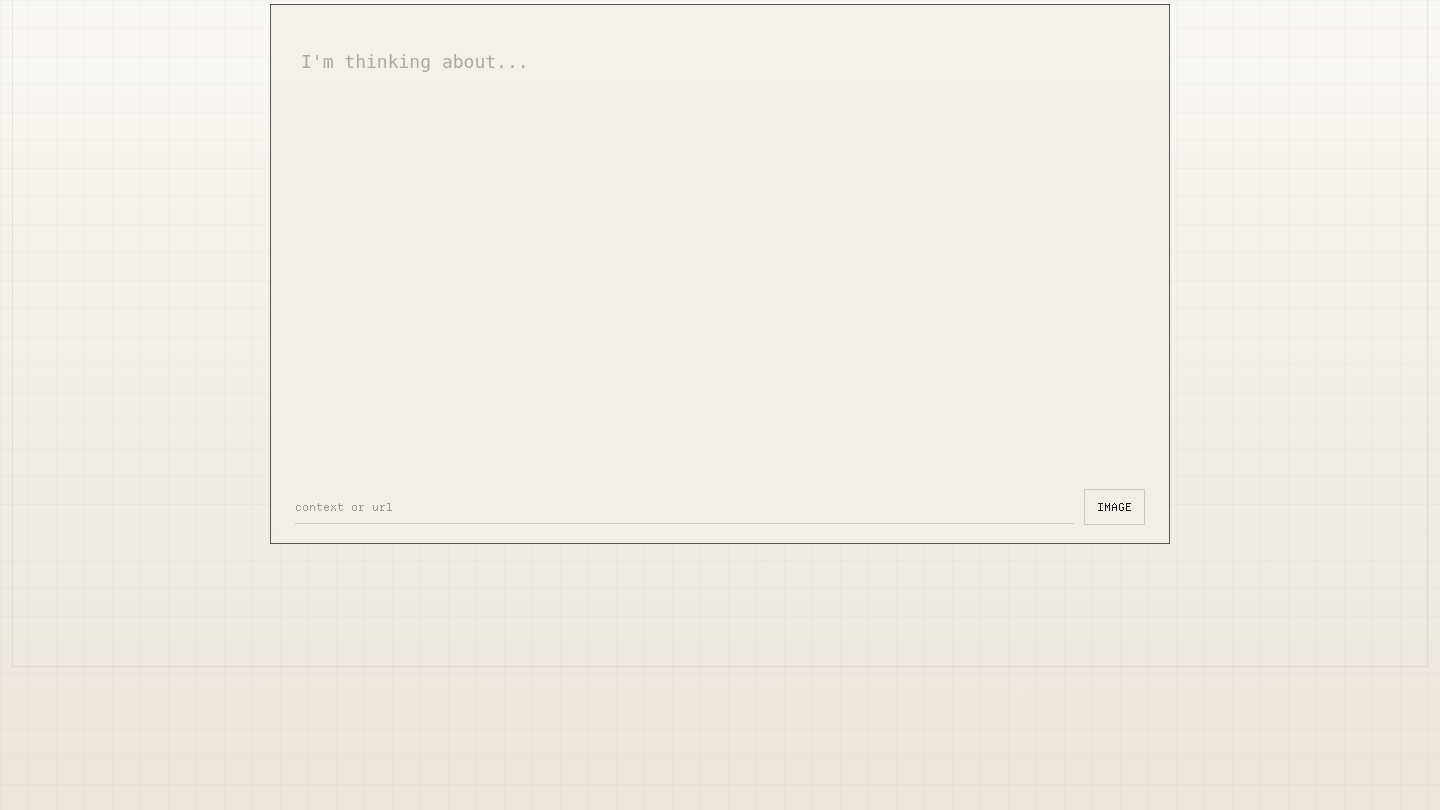
Scenario: opened notes display the fetched title for url contexts
(page scrolled)
Press ArrowDown
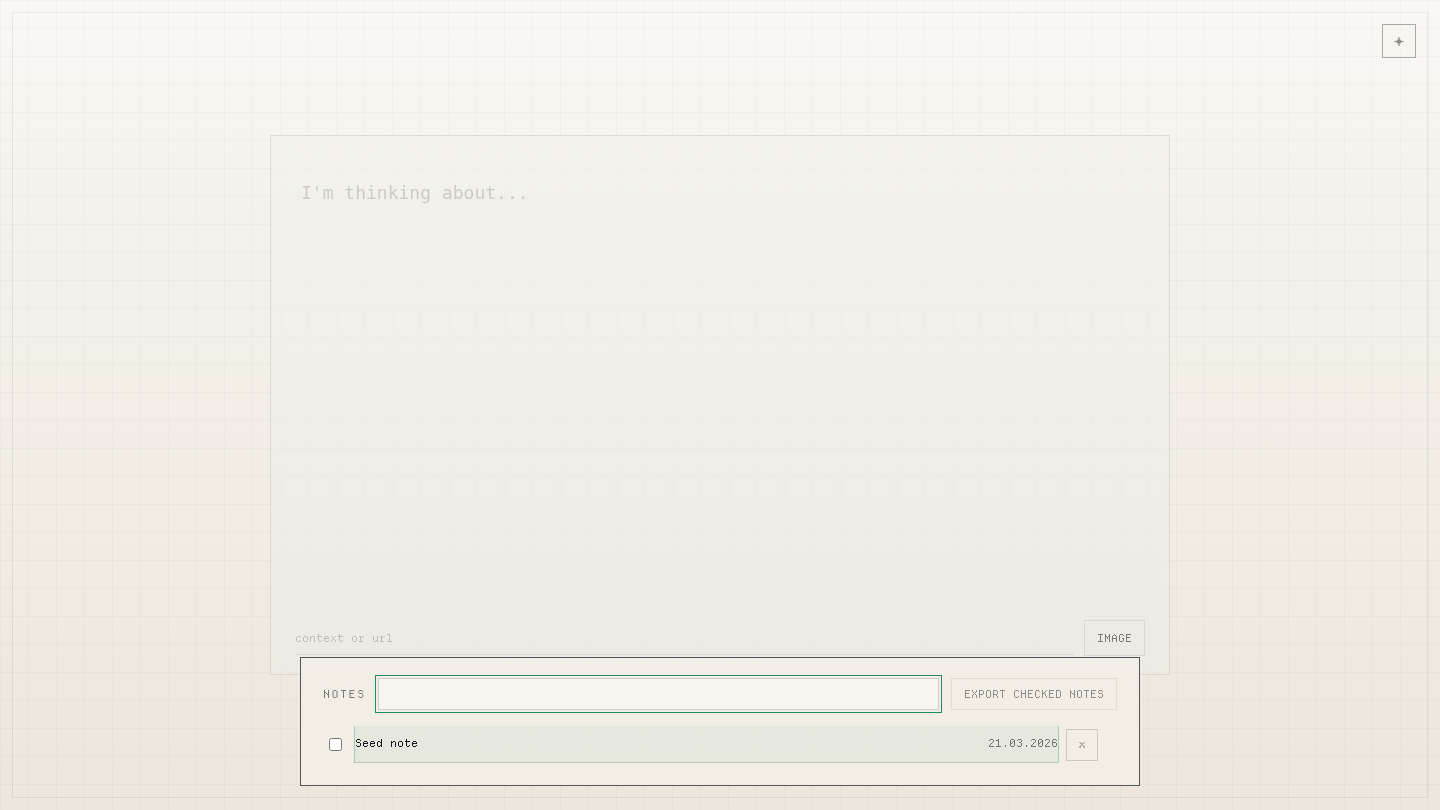
Click the text "Seed note" at coordinates (386, 743), box 355,736 -> 418,750
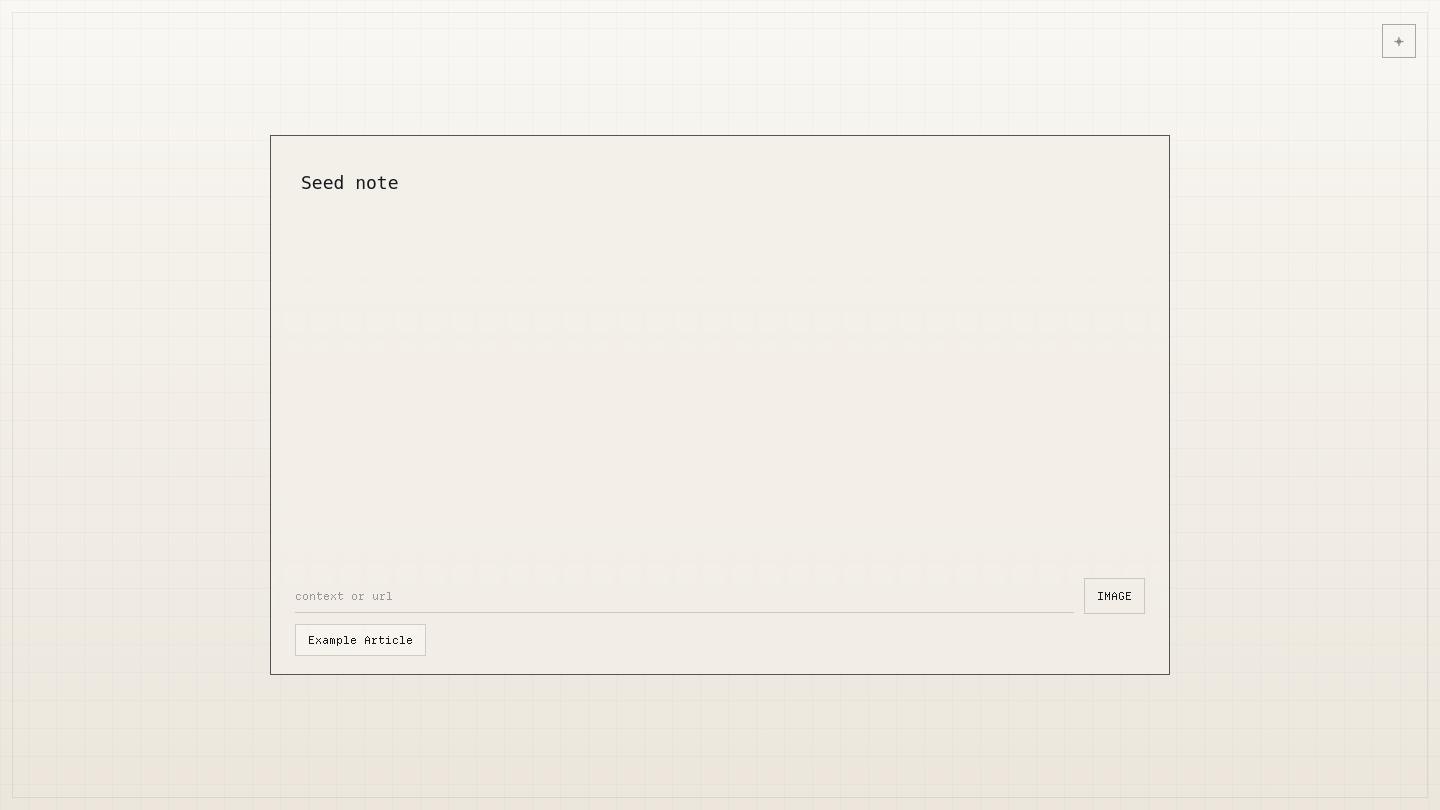
Expected: the button "Example Article" is shown, 295,624 -> 426,656
